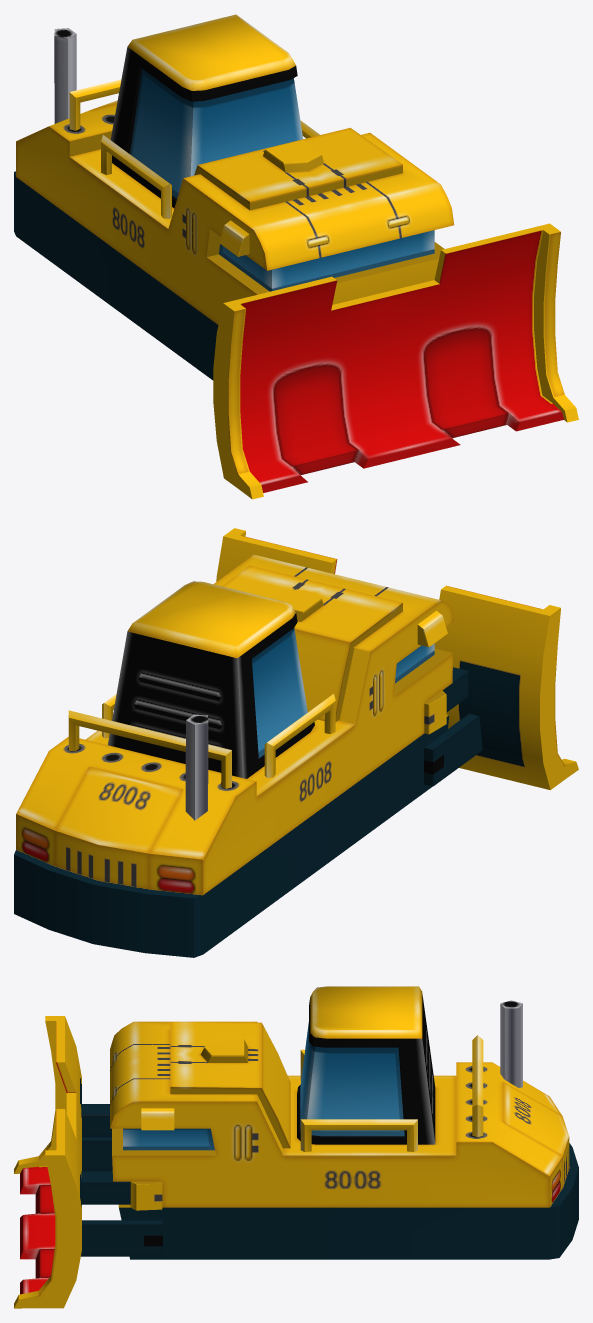
The model's file is bulldozer.FBX.
3 renders of one model, top to bottom at view 1: azimuth 30°, elevation 25°; view 2: azimuth 150°, elevation 25°; view 3: azimuth 270°, elevation 25°, orthographic. The views are drawn at different scales.
Parts seen in each view (by area): view 1: bulldozer; view 2: bulldozer; view 3: bulldozer.
Boxes of the visible parts, x1,y1,x2,y2 form: bulldozer: (14, 14, 578, 499); bulldozer: (14, 528, 578, 957); bulldozer: (14, 986, 578, 1308).
Size of the model in its own units: 0.3335 by 0.2568 by 0.5709.
